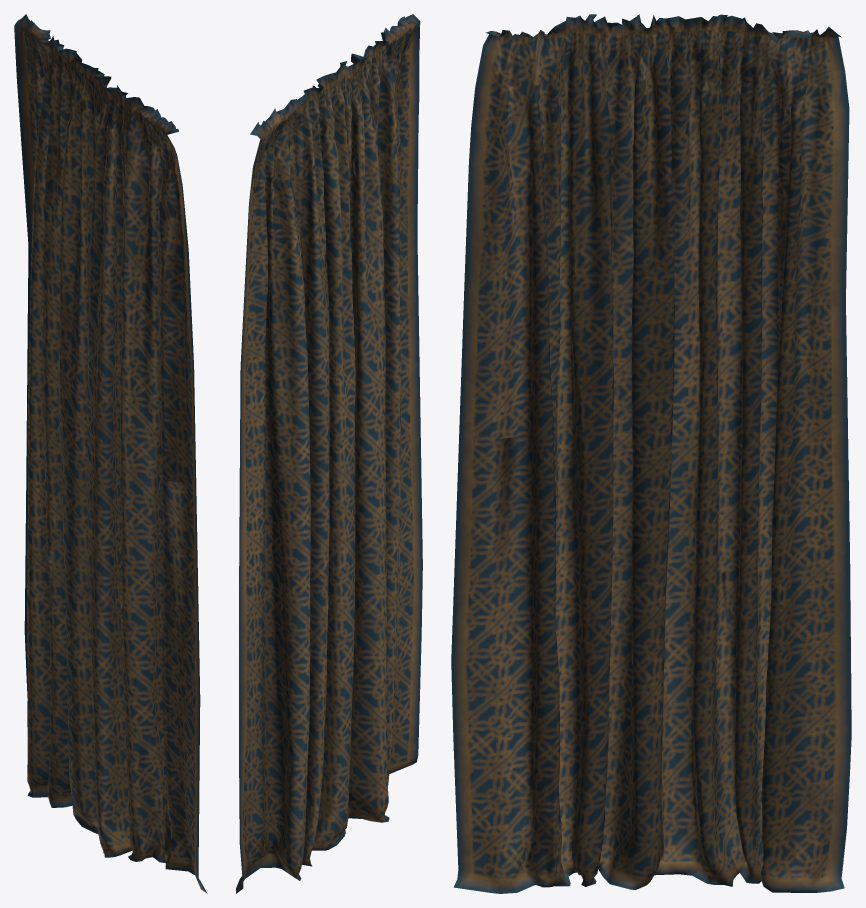
File: SM_CurtainMidBig.fbx
3 views of the same model, side by side, from view 1: azimuth 30°, elevation 25°; view 2: azimuth 150°, elevation 25°; view 3: azimuth 270°, elevation 25° (orthographic). The views are drawn at different scales.
Visible parts, largest first — view 1: SM_CurtainMidBig_LOD0; view 2: SM_CurtainMidBig_LOD0; view 3: SM_CurtainMidBig_LOD0.
Boxes of the visible parts, <box> form: SM_CurtainMidBig_LOD0: <box>14,14,207,893</box>; SM_CurtainMidBig_LOD0: <box>236,14,422,893</box>; SM_CurtainMidBig_LOD0: <box>451,14,851,893</box>.
Size of the model in its own units: 41.41 by 240 by 570.
Materials: 1 (1 with a texture image).
